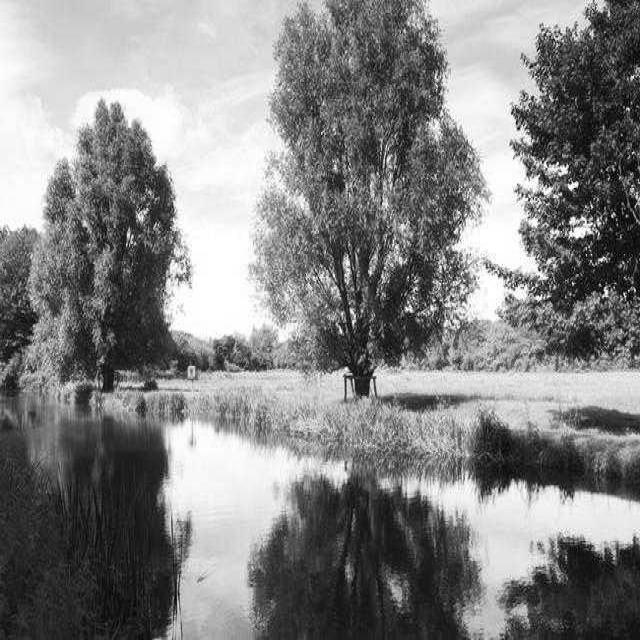Tree: (254, 0, 486, 396), (30, 100, 189, 391)
